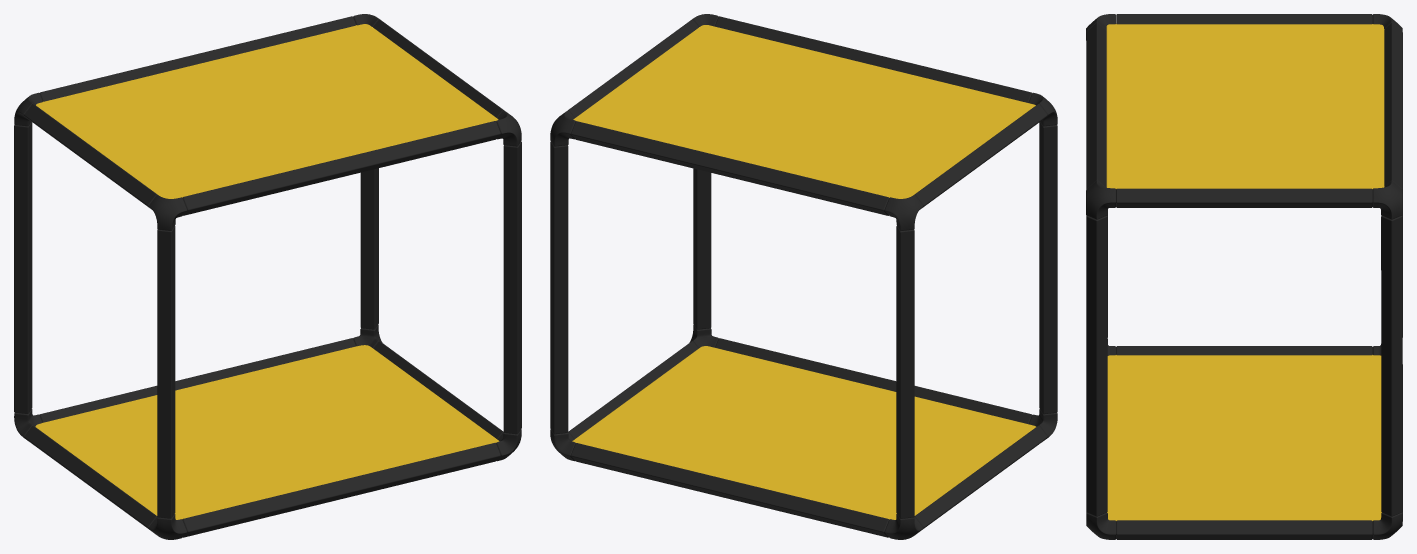
3 renders of one model, left to right at view 1: azimuth 30°, elevation 25°; view 2: azimuth 150°, elevation 25°; view 3: azimuth 270°, elevation 25°, orthographic. The views are drawn at different scales.
Visible parts, largest first — view 1: 479x329x420; view 2: 479x329x420; view 3: 479x329x420.
Boxes of the visible parts, bbox=[...] form: 479x329x420: bbox=[14, 14, 521, 539]; 479x329x420: bbox=[550, 14, 1057, 539]; 479x329x420: bbox=[1086, 14, 1402, 539].
Bounding box in the file's own units: 0.5567 × 0.4976 × 0.4063.
